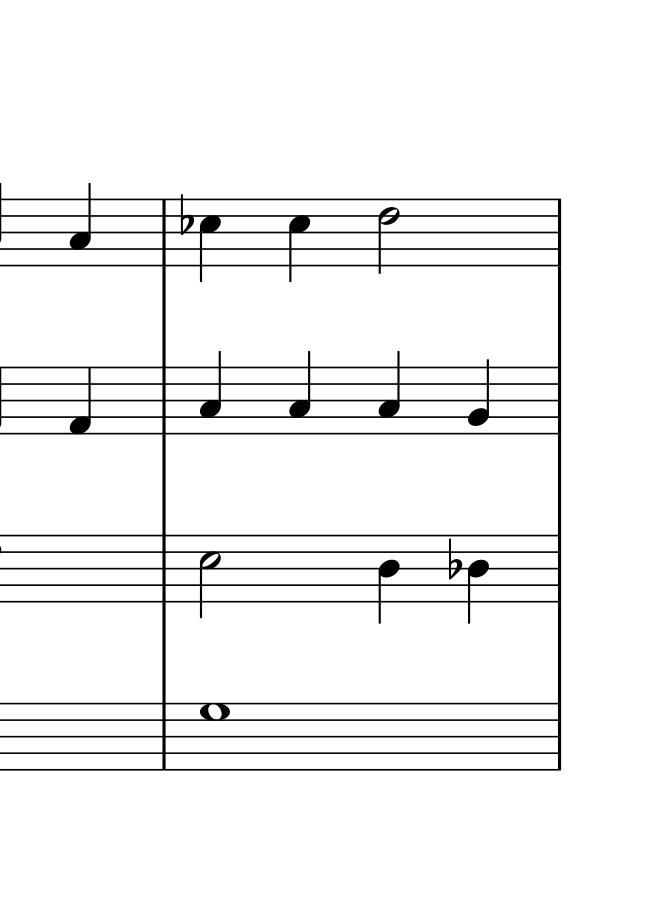1_7: (198, 701, 231, 771)
2_5: (194, 534, 222, 621)
2_6: (376, 197, 400, 277)
4_1: (70, 365, 96, 435)
4_2: (467, 357, 494, 435)
4_3: (199, 347, 225, 436), (287, 347, 313, 434), (67, 183, 93, 268), (379, 350, 403, 437)
4_4: (466, 534, 495, 623), (375, 533, 403, 625)
4_5: (197, 198, 222, 285), (287, 198, 311, 285)
Flat: (177, 191, 196, 237), (444, 535, 462, 582)
Single_barline: (546, 702, 569, 770), (546, 535, 568, 603), (154, 702, 175, 768), (155, 367, 175, 435), (548, 366, 566, 434), (156, 535, 174, 602), (550, 199, 566, 266), (158, 199, 173, 266)
